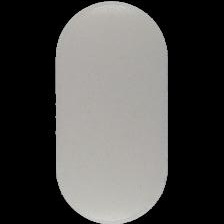62756-142: (0, 0, 224, 224)
